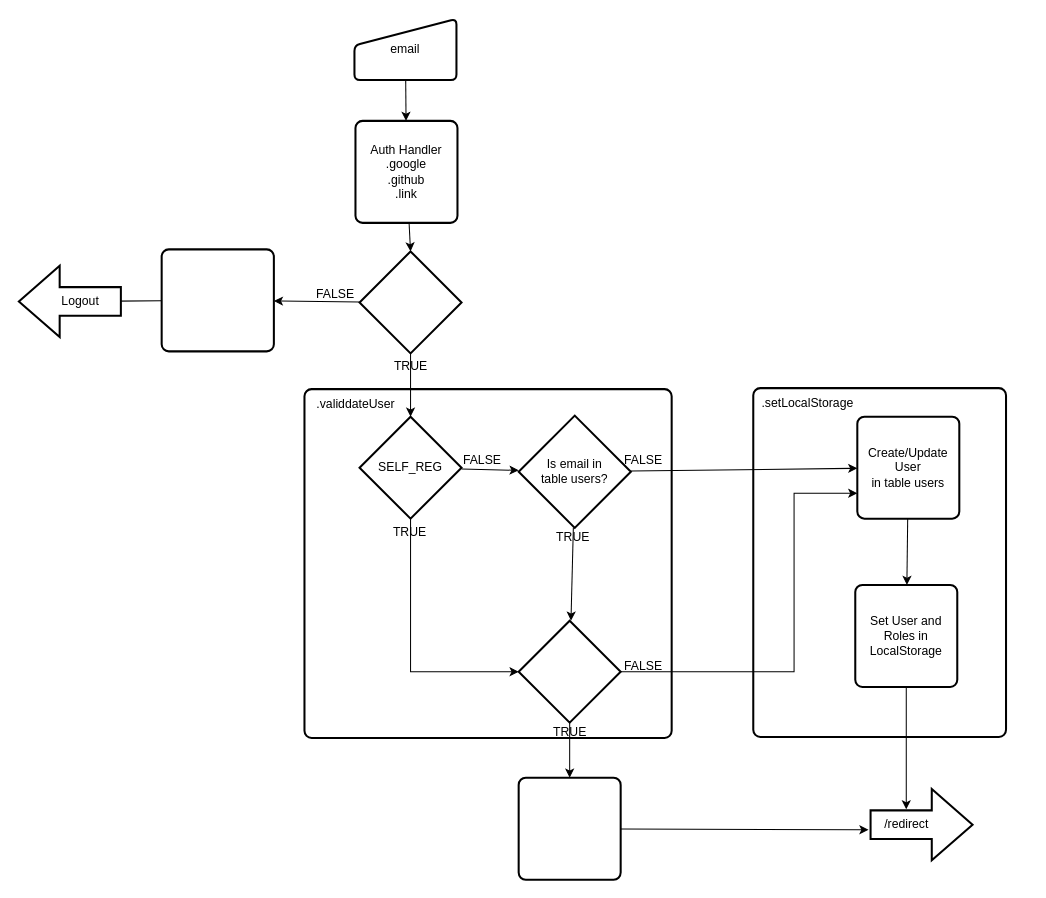
Some shapes in this 1046 by 898 pixel diagram are drawn without their labels. The box of each missing label's shape, as (x1, y1, x2, y2) in pixels:
.logout delete localStorage Revoke session: (160, 248, 274, 352)
.onSuccess: (358, 250, 462, 354)
Is email ADMIN_USER _EMAIL?: (517, 619, 621, 723)
Set Role to ADMIN_USER in users table: (517, 776, 621, 880)
